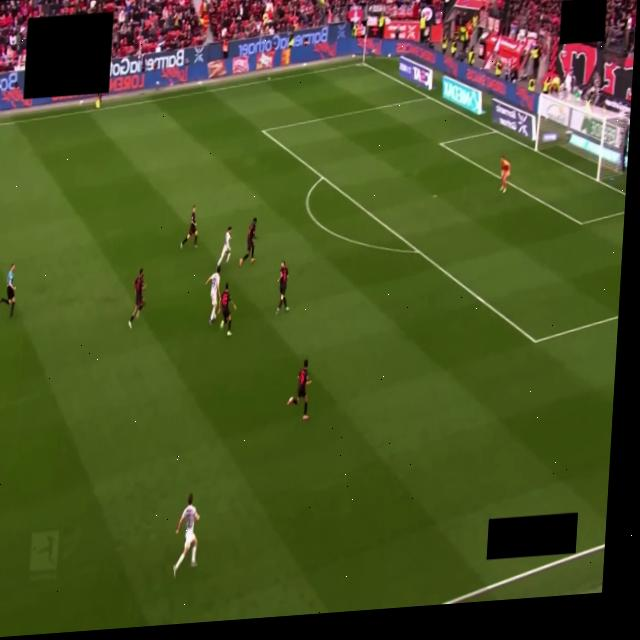player: (172, 494, 198, 576), (287, 360, 310, 420), (128, 268, 144, 328), (239, 218, 256, 267), (219, 284, 235, 336), (205, 266, 219, 324), (180, 206, 196, 248), (276, 261, 287, 314), (217, 227, 230, 266), (499, 156, 510, 193)
referee: (0, 264, 15, 317)
